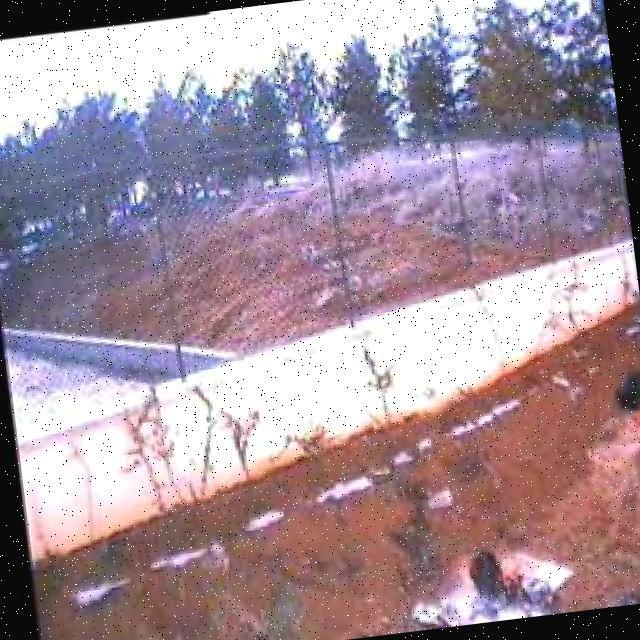Fire: (456, 543, 537, 616)
